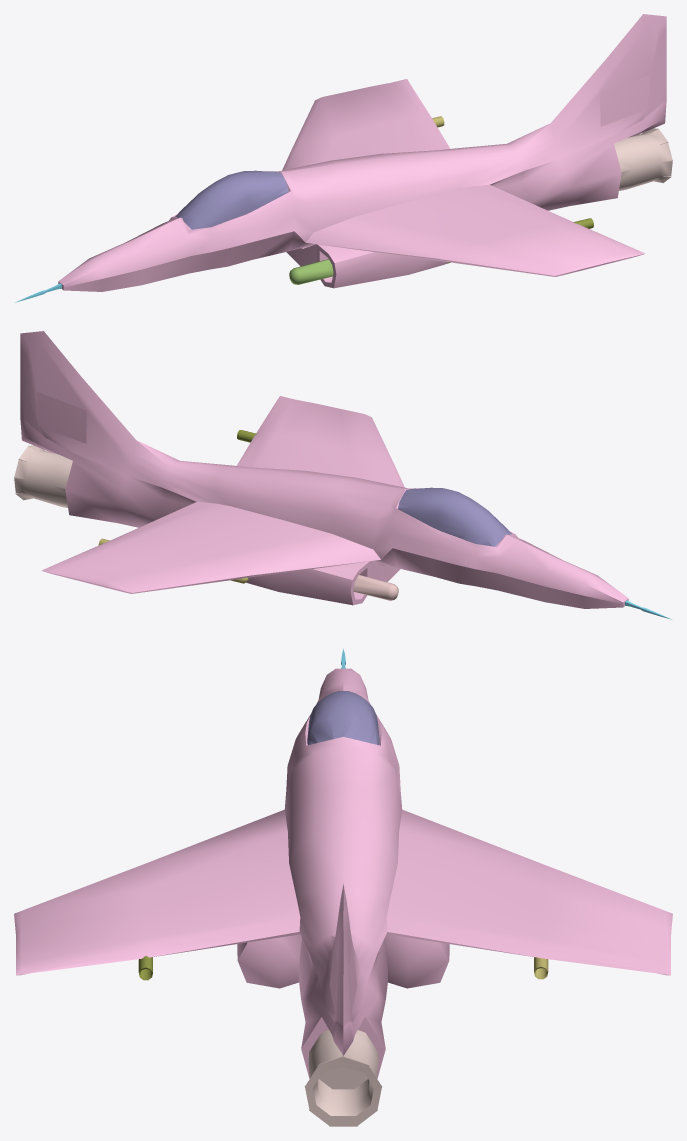
3 views of the same model, one above another, from view 1: azimuth 30°, elevation 25°; view 2: azimuth 150°, elevation 25°; view 3: azimuth 270°, elevation 25° (orthographic). The views are drawn at different scales.
Visible parts, largest first — view 1: split_parent_7, pSphere3_phong2_0, pSphere3_phong2_0.003, polySurface1_phongE1_0; view 2: split_parent_7, pSphere3_phong2_0, pSphere3_phong2_0.003, polySurface2_phongE1_0; view 3: split_parent_7, pSphere3_phong2_0.003, pSphere3_phong2_0.
Part boxes in pixels (x1,y1,x2,y2): split_parent_7: [58, 14, 666, 291]; pSphere3_phong2_0: [175, 170, 288, 229]; pSphere3_phong2_0.003: [614, 128, 672, 190]; polySurface1_phongE1_0: [289, 259, 333, 284]; split_parent_7: [20, 331, 628, 608]; pSphere3_phong2_0: [398, 487, 511, 546]; pSphere3_phong2_0.003: [14, 445, 72, 507]; polySurface2_phongE1_0: [353, 575, 398, 600]; split_parent_7: [14, 668, 672, 1078]; pSphere3_phong2_0.003: [304, 1030, 382, 1126]; pSphere3_phong2_0: [307, 691, 379, 745].
Bounding box in the file's own units: 1 × 0.2585 × 0.6371.
